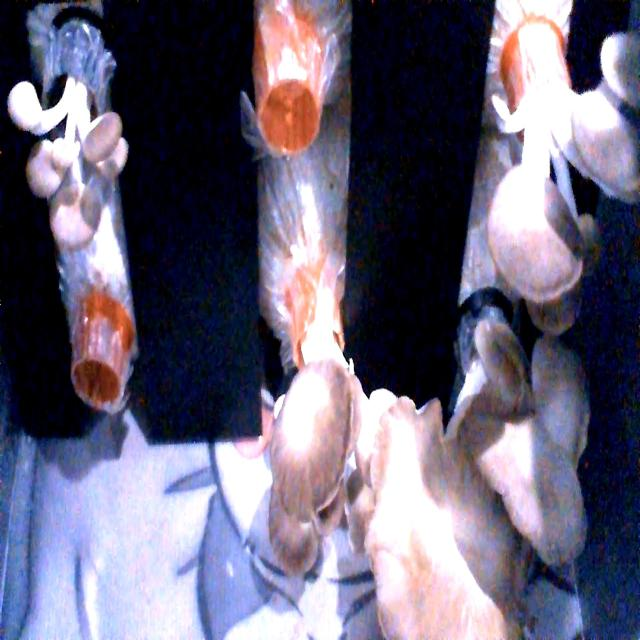big: (348, 360, 612, 640), (457, 17, 640, 330), (252, 341, 410, 562)
nfound: (246, 67, 340, 172), (59, 325, 142, 429)
small: (2, 60, 156, 238)
